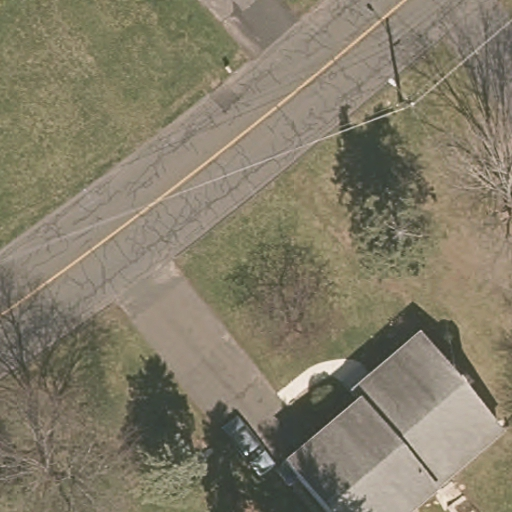DT: (387, 75, 417, 108)
